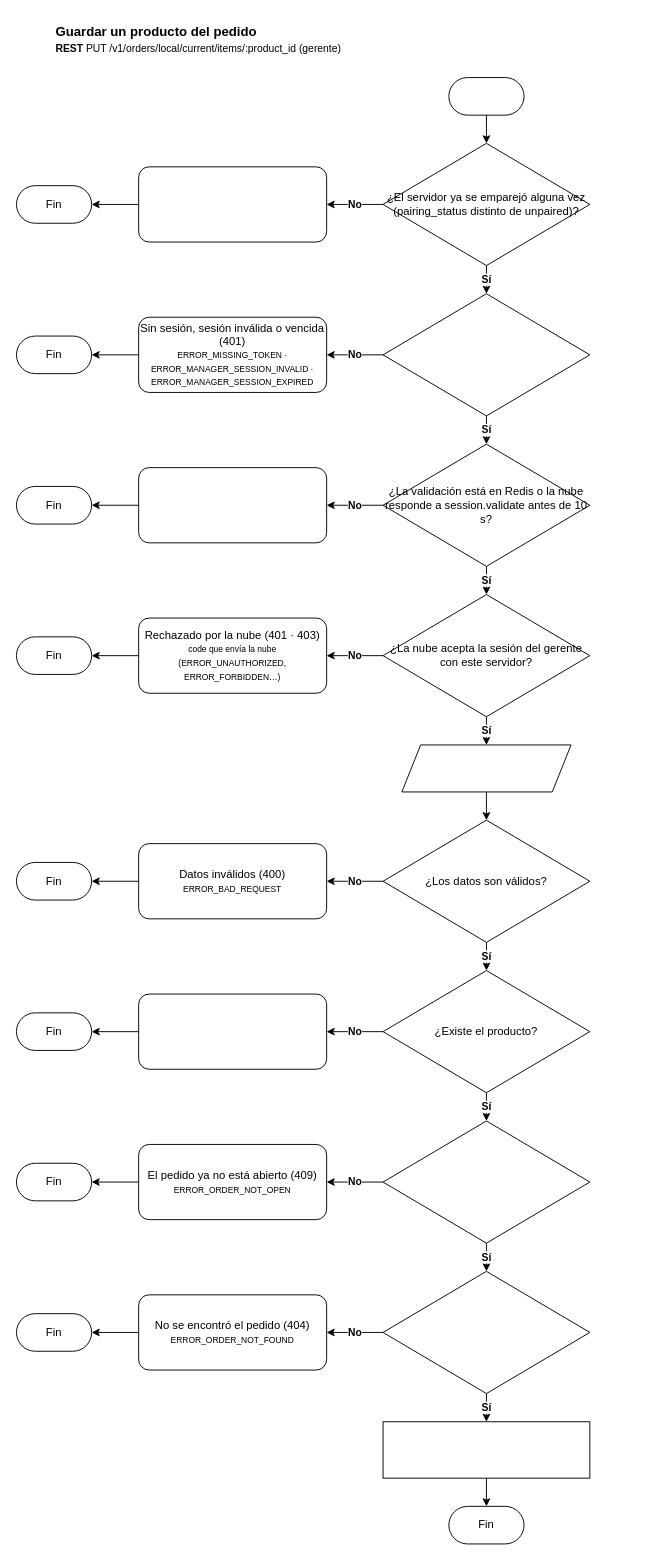
Image size: 672x1560. Some labels were removed from this diagram. The shapes that lost their labels are listed below. From the top down, each one's box as (x1, y1, x2, y2) in pixels, then its label:
(448, 77, 524, 115): Inicio
(138, 166, 327, 242): Servidor sin emparejar (409) ERROR_SERVER_NOT_PAIRED
(382, 293, 590, 416): ¿Trae una sesión de gerente válida (Bearer mss_..., sin 30 min de inactividad)?
(138, 467, 327, 543): La nube no responde (503) ERROR_CLOUD_UNAVAILABLE · ERROR_SERVER_UNLINKED
(401, 744, 571, 792): Recibir datos
(138, 993, 327, 1069): No se encontró el producto (404) ERROR_ORDER_PRODUCT_NOT_FOUND
(382, 1120, 590, 1243): ¿El pedido del día sigue abierto?
(382, 1270, 590, 1394): ¿Existe el pedido?
(382, 1421, 590, 1478): Responder 200 con el mensaje ITEM_SAVED
